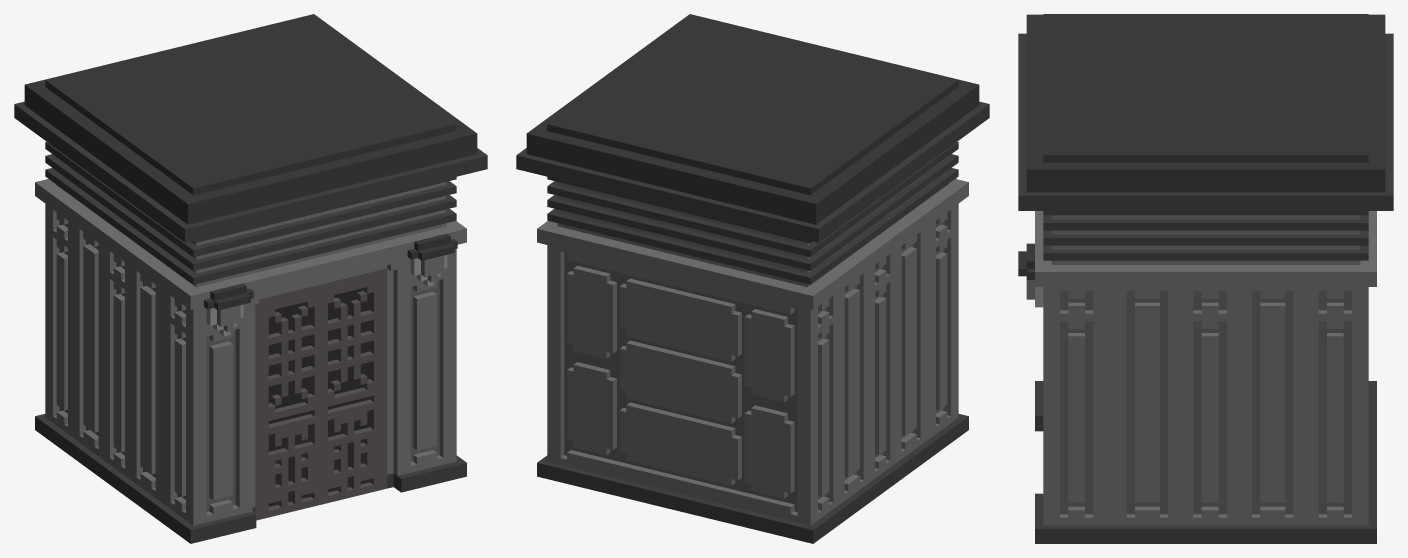
Rendered from Jazigo 02.obj.
3 views of the same model, side by side, from view 1: azimuth 30°, elevation 25°; view 2: azimuth 150°, elevation 25°; view 3: azimuth 270°, elevation 25° (orthographic). The views are drawn at different scales.
Size of the model in its own units: 4.6 by 5.1 by 4.5.
1 material, 1 textured.
